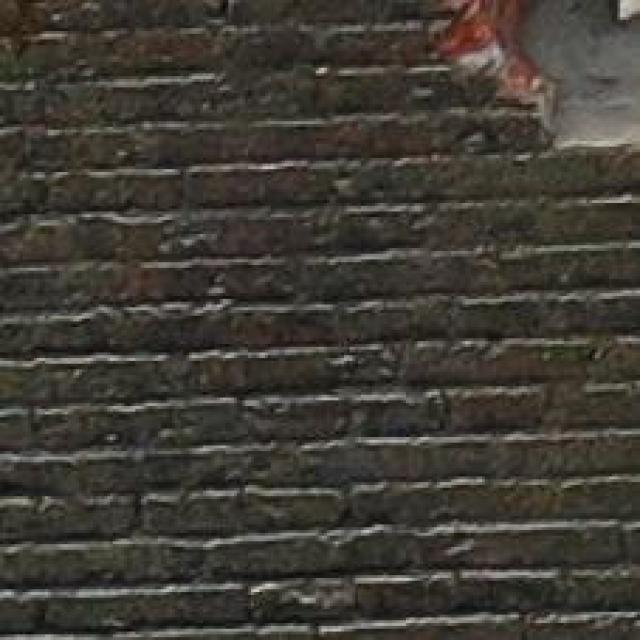Crack: (383, 0, 640, 175)
